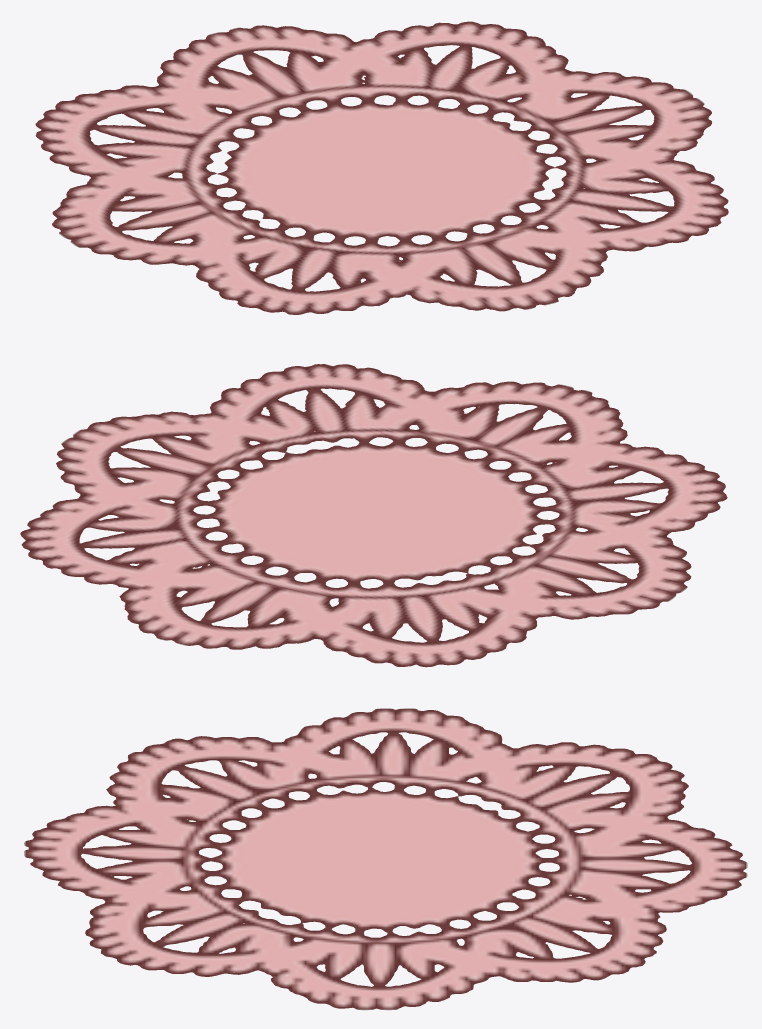
File: Doily_A.FBX
3 views of the same model, one above another, from view 1: azimuth 30°, elevation 25°; view 2: azimuth 150°, elevation 25°; view 3: azimuth 270°, elevation 25° (orthographic).
Parts seen in each view (by area): view 1: Doily; view 2: Doily; view 3: Doily.
Part boxes in pixels (x1,y1,x2,y2): Doily: (35, 21, 728, 314); Doily: (20, 364, 727, 667); Doily: (24, 708, 747, 1010).
Bounding box in the file's own units: 95.46 × 4.59e-06 × 94.01.
